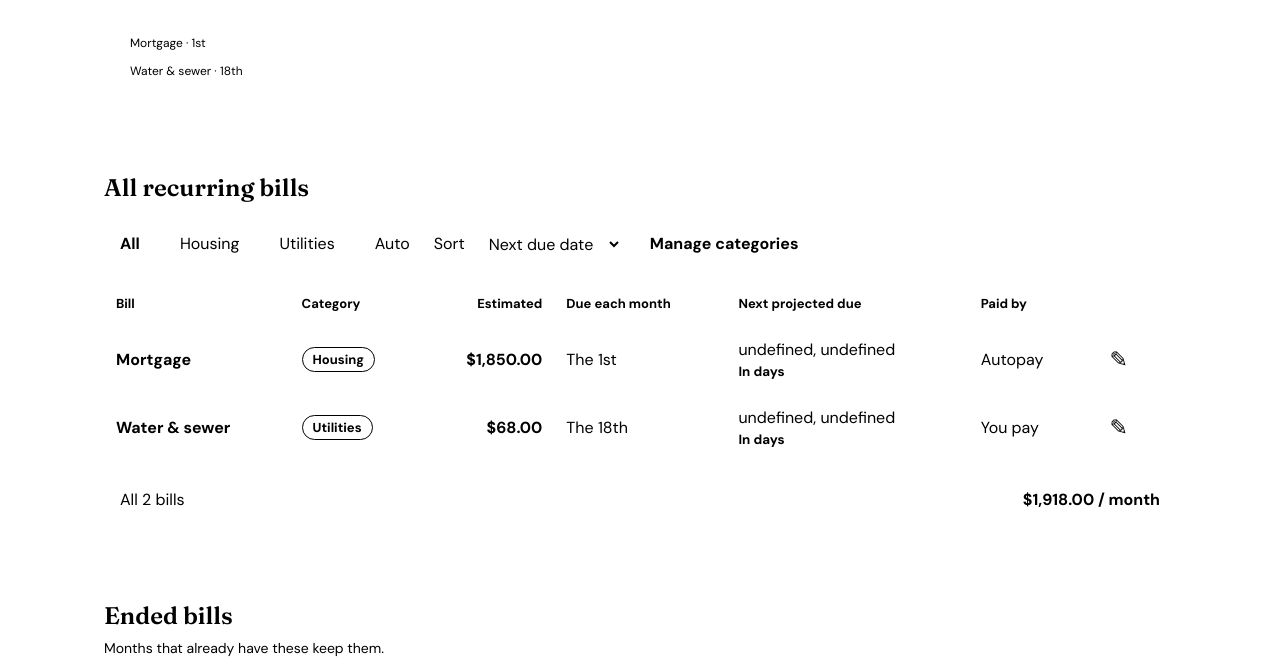
P2-08 Recurring bills page › keeps the form and shows an error when saving fails
(page scrolled)
Click the button named "Edit Mortgage". click: [1119, 360]
box: [1097, 338, 1141, 382]
(page scrolled)
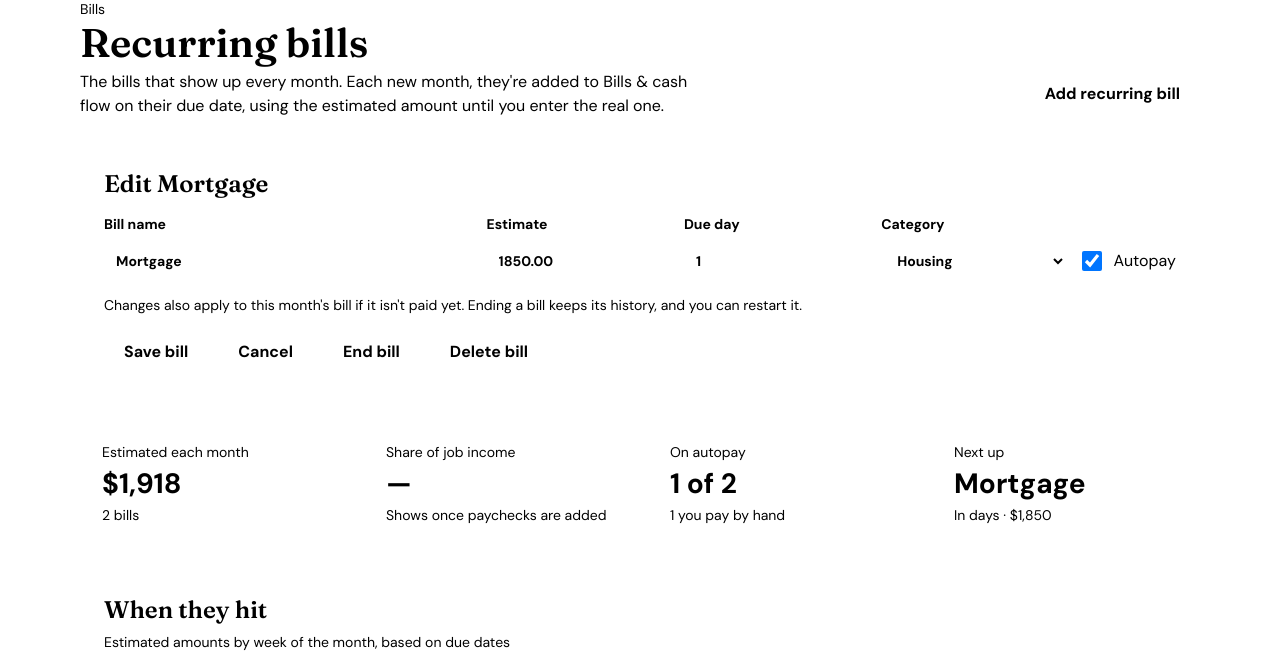
Click the button "Save bill". click: [156, 352]
box: [104, 328, 208, 376]
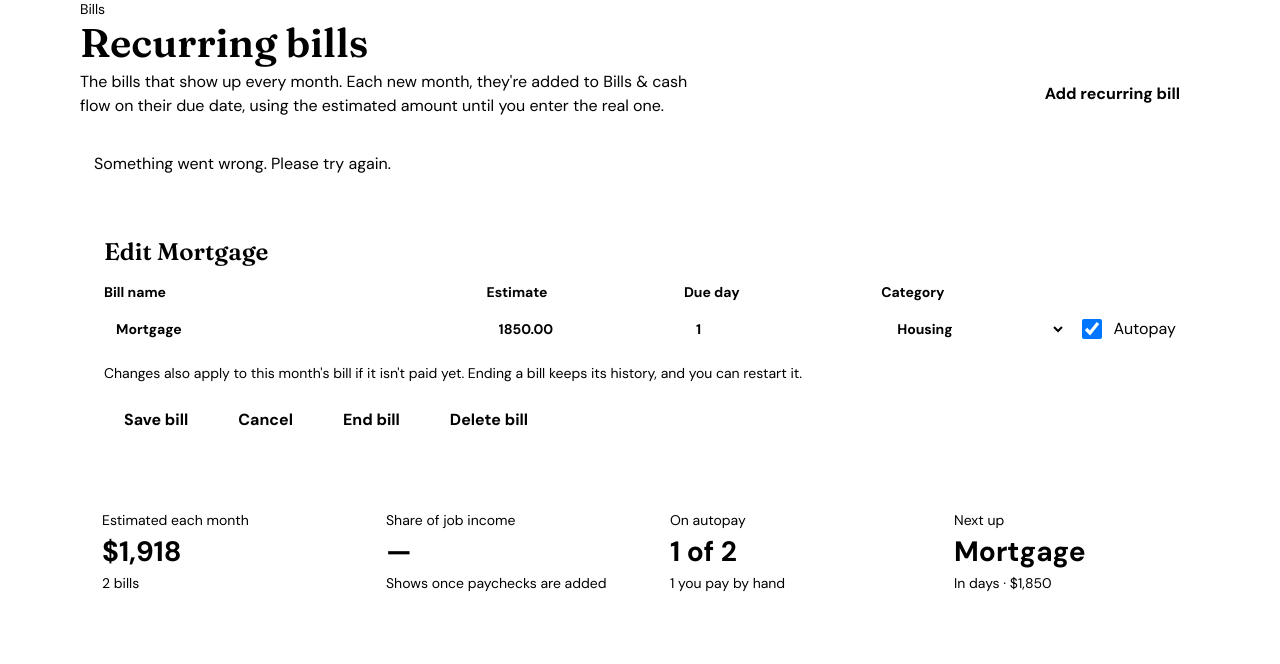
Expected: the form "Edit Mortgage" is shown, [80, 210, 1200, 468]
Expected: the message shows "Something went wrong", [94, 153, 391, 174]
